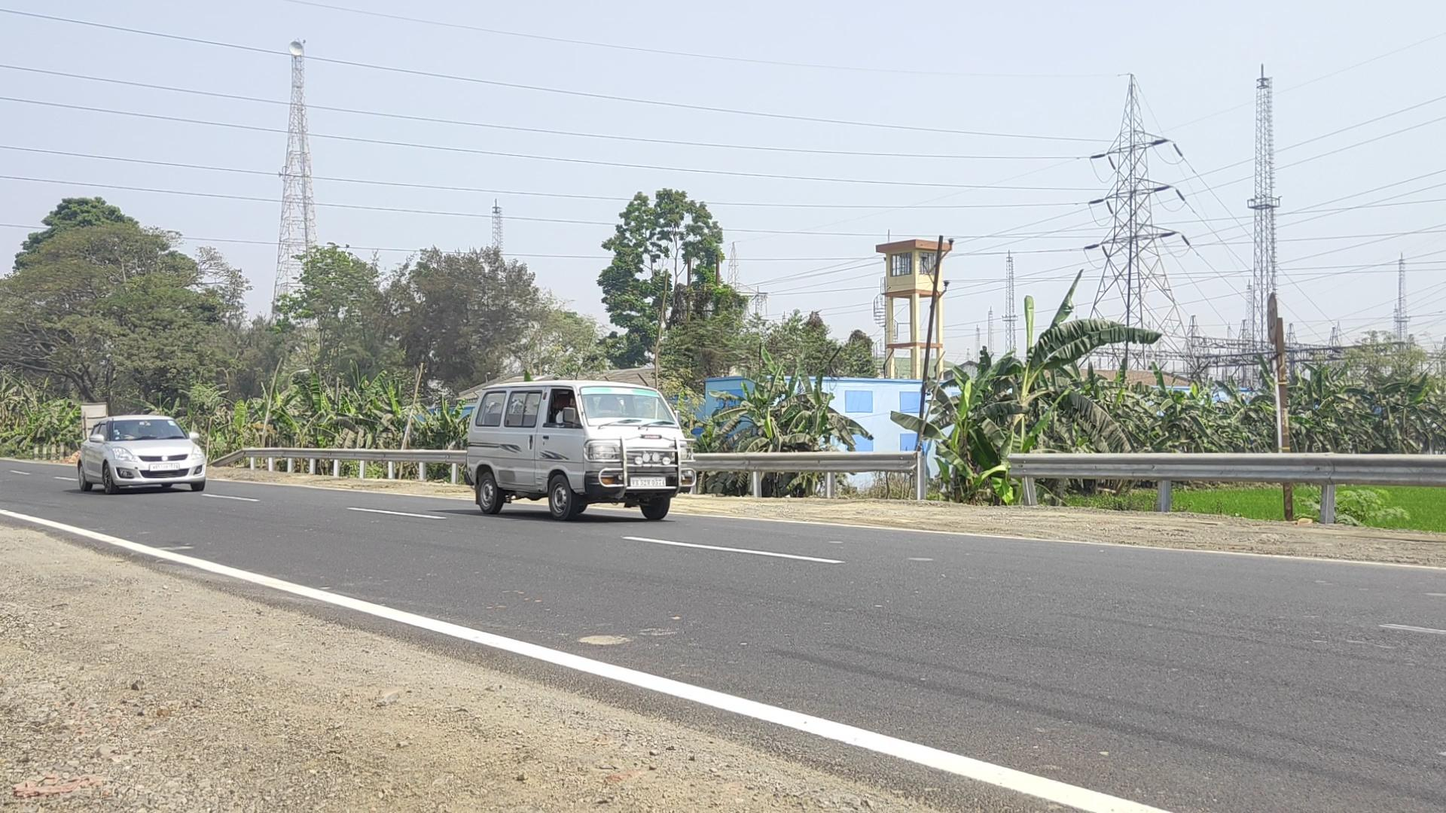car: (78, 415, 206, 495)
van: (464, 379, 697, 521)
